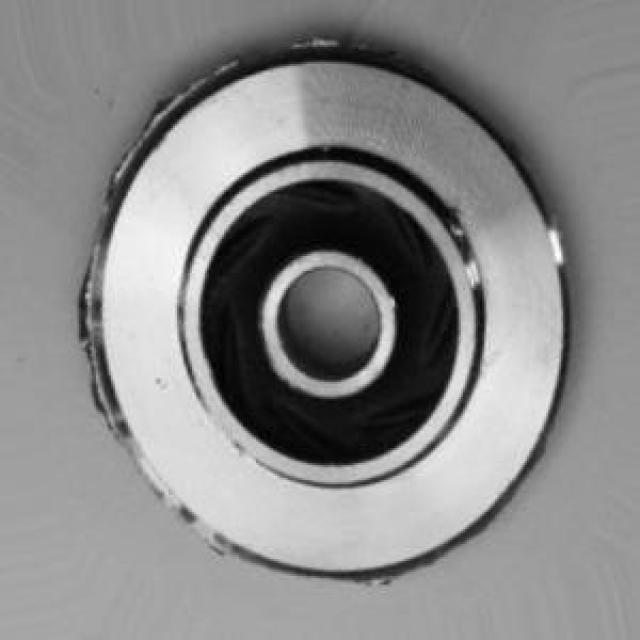Defect: (64, 296, 117, 386), (167, 497, 206, 552), (144, 88, 185, 138)
